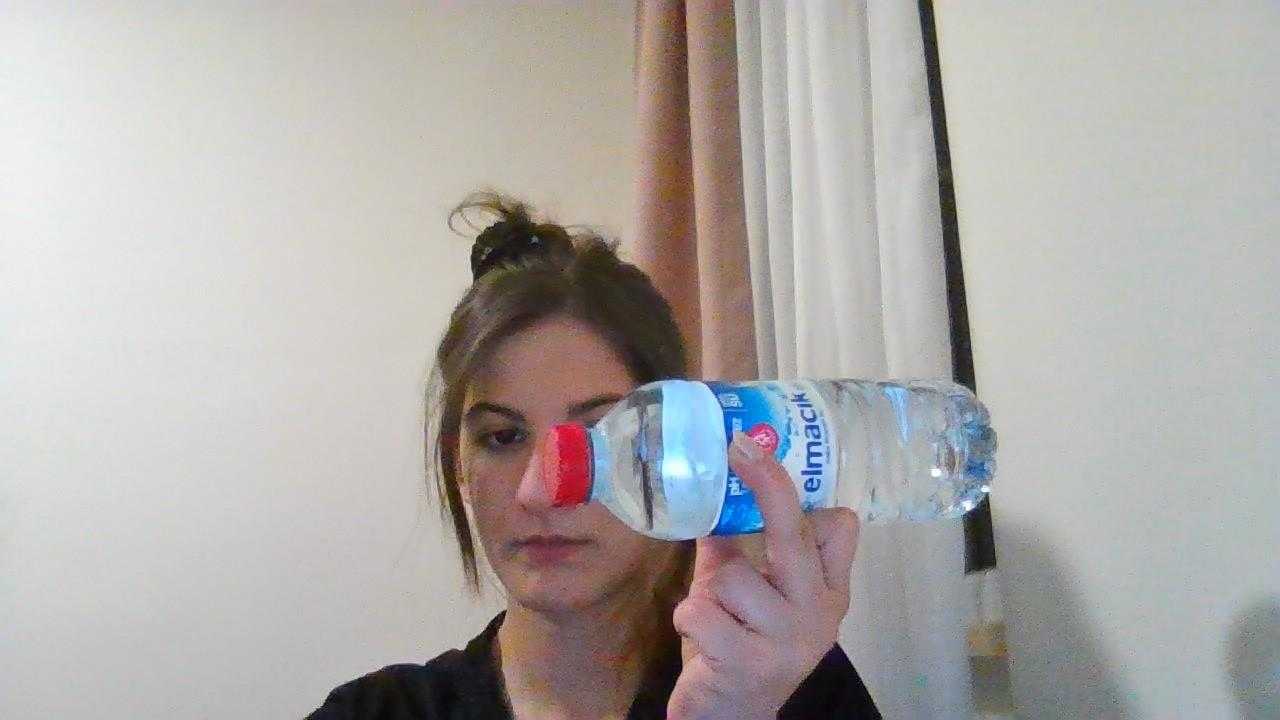bottle: (545, 374, 1002, 534)
